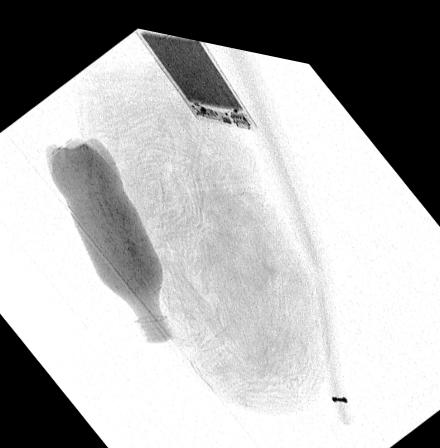Powerbank: (134, 23, 256, 118)
